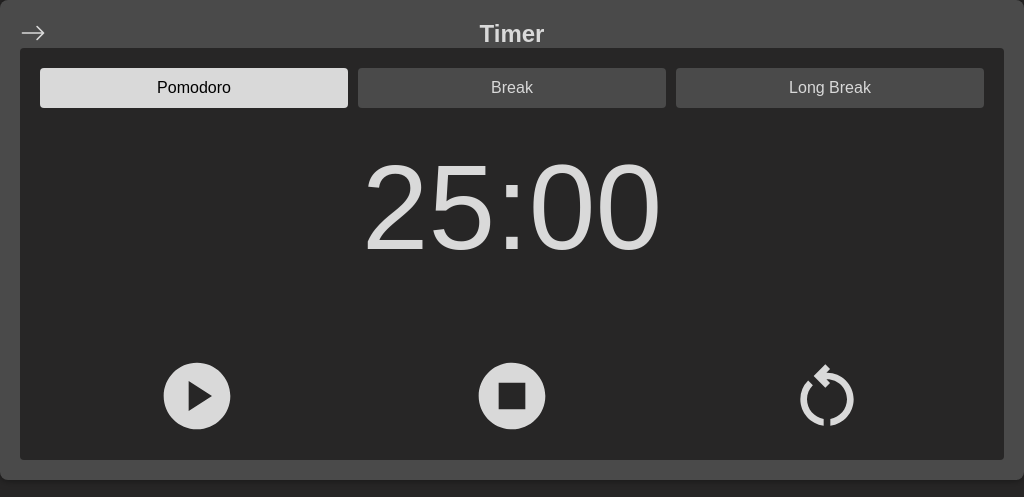
Timer component › sould be able to navigate to another tab
Step 1. Click the tab "Break" → (512,88), box x1=358 y1=68 x2=666 y2=108
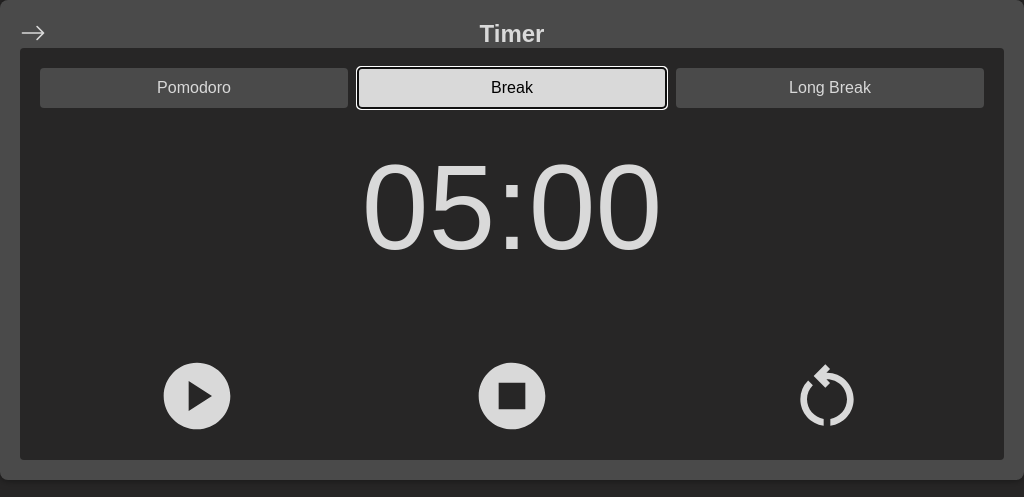
expect the text "00" is shown: met, box x1=529 y1=138 x2=662 y2=276
expect the text "05" is shown: met, box x1=362 y1=138 x2=495 y2=276
